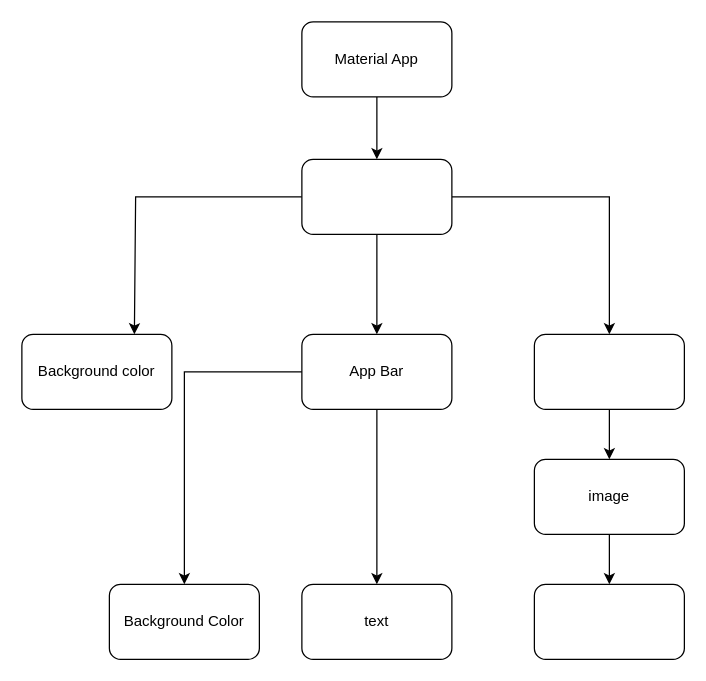
This 706x681 diagram has some shape labels left out. The box of each missing label's shape, as (x1, y1, x2, y2) in pixels:
Center: (533, 333, 684, 409)
Network image: (533, 583, 684, 659)
Scaffold: (301, 158, 452, 234)
